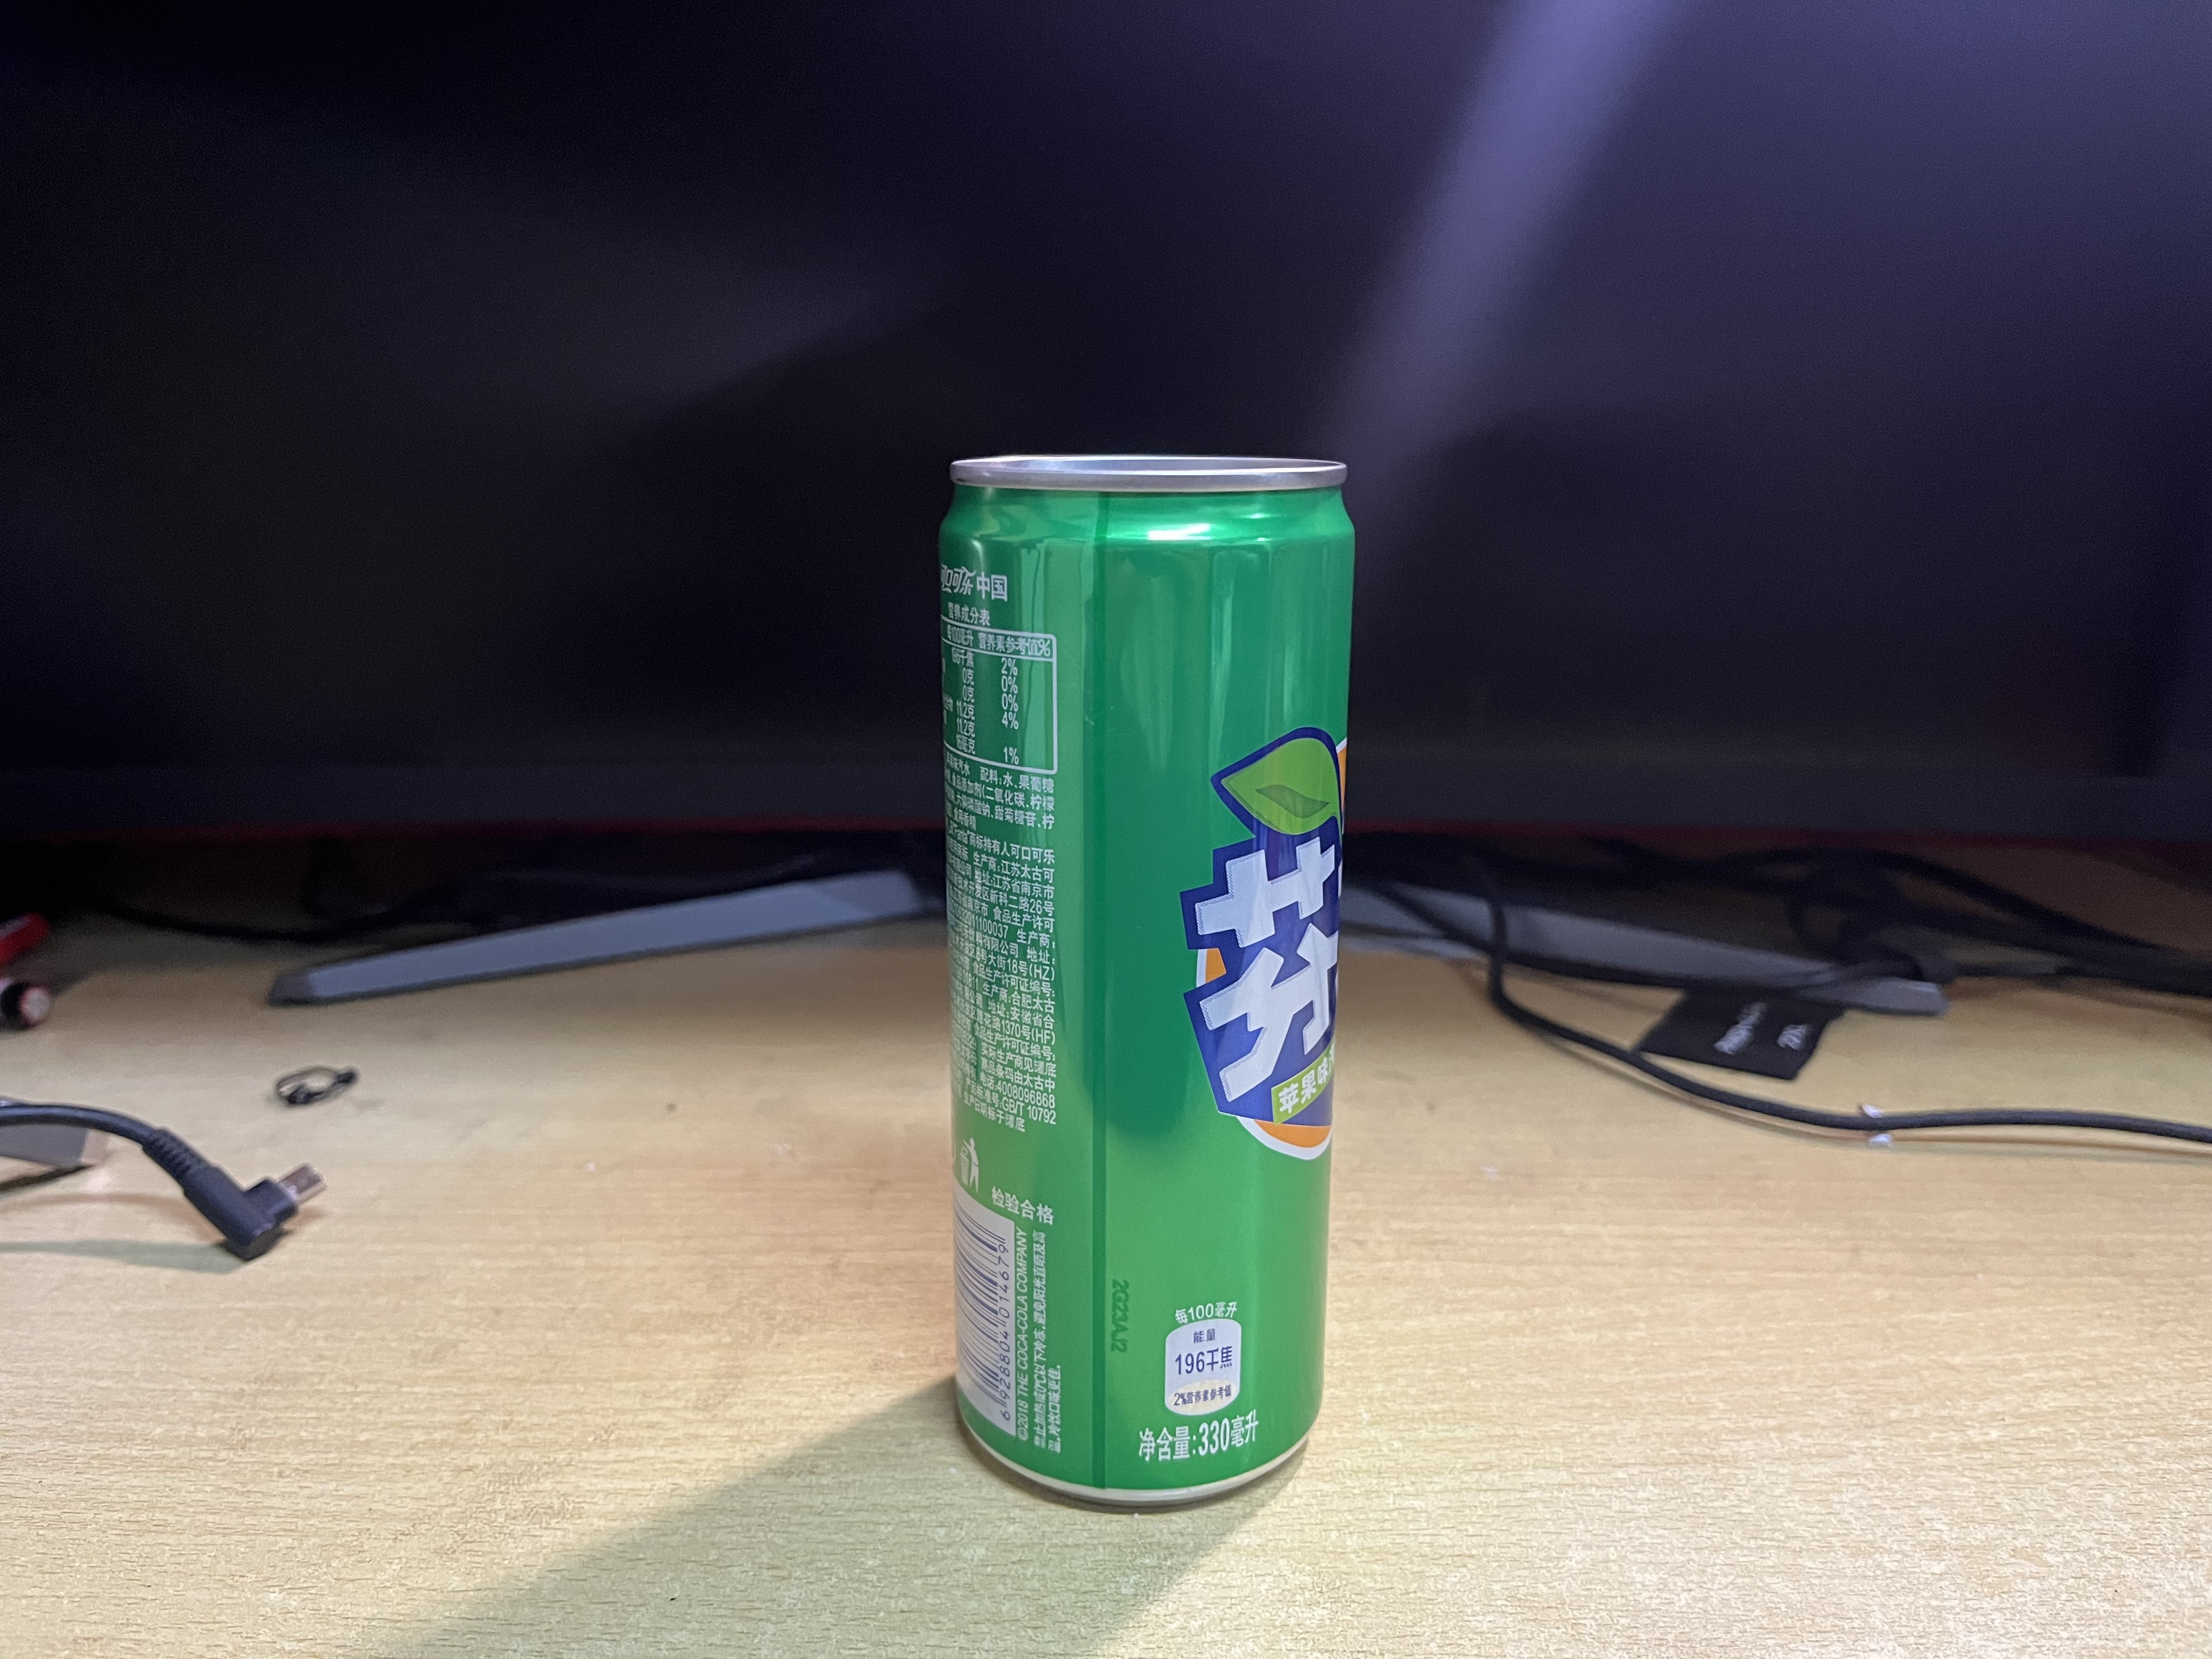FANTA_Apple: (934, 455, 1359, 1511)
